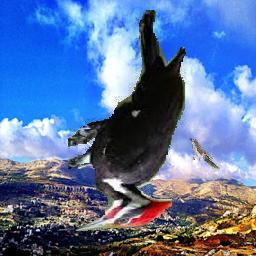Cuckoo: (190, 139, 221, 170)
Woodpecker: (68, 10, 186, 232)
